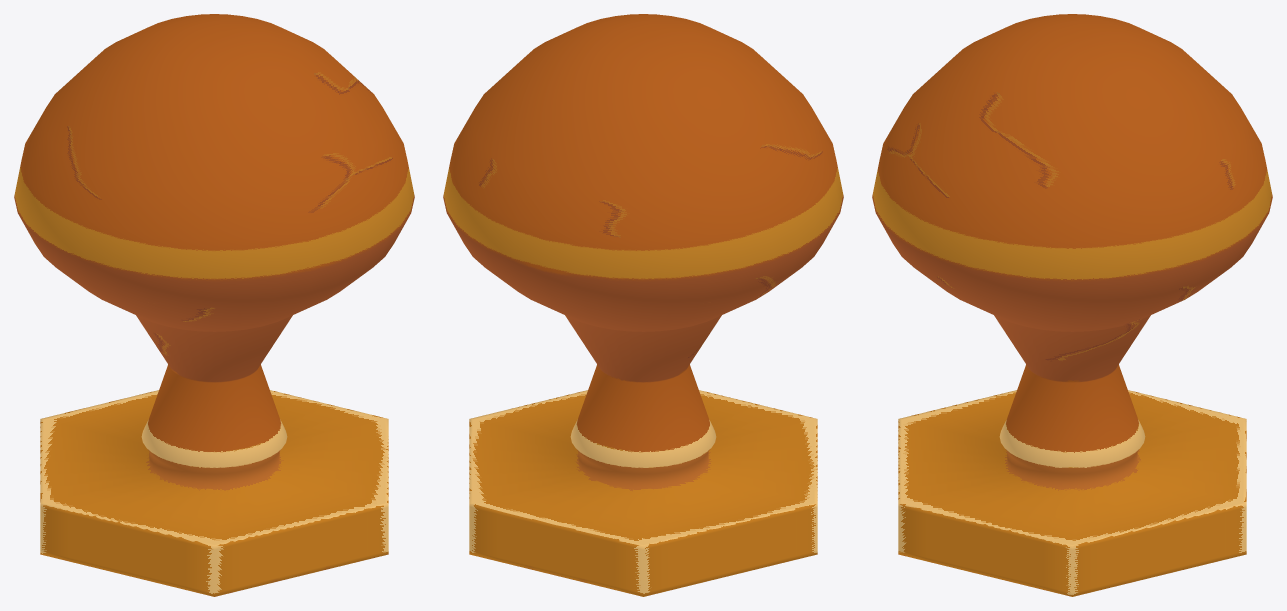
Rendered from armandoStamp.glb.
The picture shows the model from 3 angles, left to right: view 1: azimuth 30°, elevation 25°; view 2: azimuth 150°, elevation 25°; view 3: azimuth 270°, elevation 25°; orthographic projection.
Visible parts, largest first — view 1: ArmandoStamp; view 2: ArmandoStamp; view 3: ArmandoStamp.
Part boxes in pixels (x1,y1,x2,y2): ArmandoStamp: (14, 14, 414, 596); ArmandoStamp: (443, 14, 843, 596); ArmandoStamp: (872, 14, 1272, 596).
Size of the model in its own units: 0.099 by 0.1311 by 0.0986.
2 materials, 2 textured.
